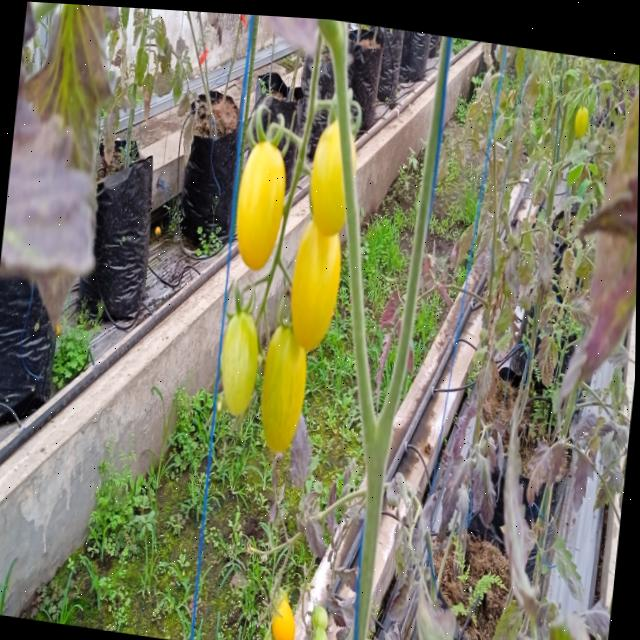fine: (236, 311, 318, 498), (220, 130, 297, 287), (282, 214, 357, 355), (300, 117, 370, 258), (265, 582, 303, 640)
unripe: (206, 291, 270, 422), (299, 592, 340, 640)
